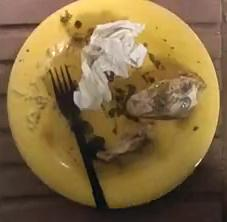chicken: (127, 76, 197, 118)
